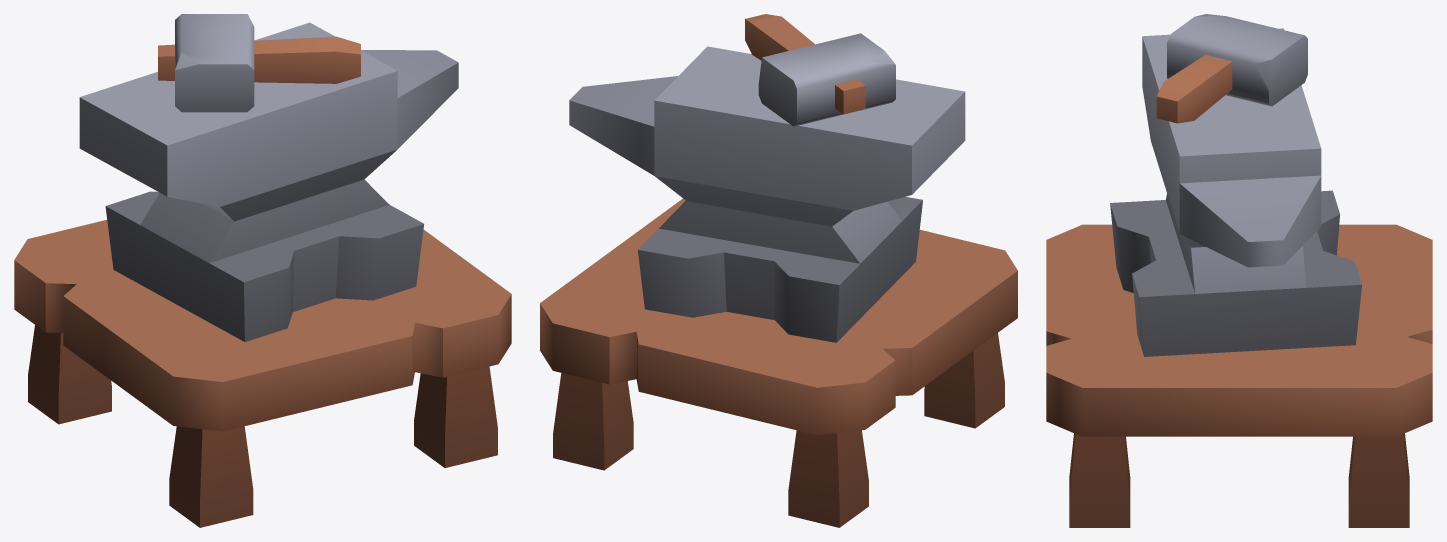
File: workbench-anvil.glb
The picture shows the model from 3 angles, left to right: view 1: azimuth 30°, elevation 25°; view 2: azimuth 150°, elevation 25°; view 3: azimuth 270°, elevation 25°; orthographic projection. The views are drawn at different scales.
Visible parts, largest first — view 1: workbench-anvil; view 2: workbench-anvil; view 3: workbench-anvil.
Part boxes in pixels (x1,y1,x2,y2): workbench-anvil: [14, 14, 511, 527]; workbench-anvil: [540, 14, 1017, 527]; workbench-anvil: [1046, 14, 1432, 527].
Size of the model in its own units: 0.7688 by 0.8 by 0.7045.
